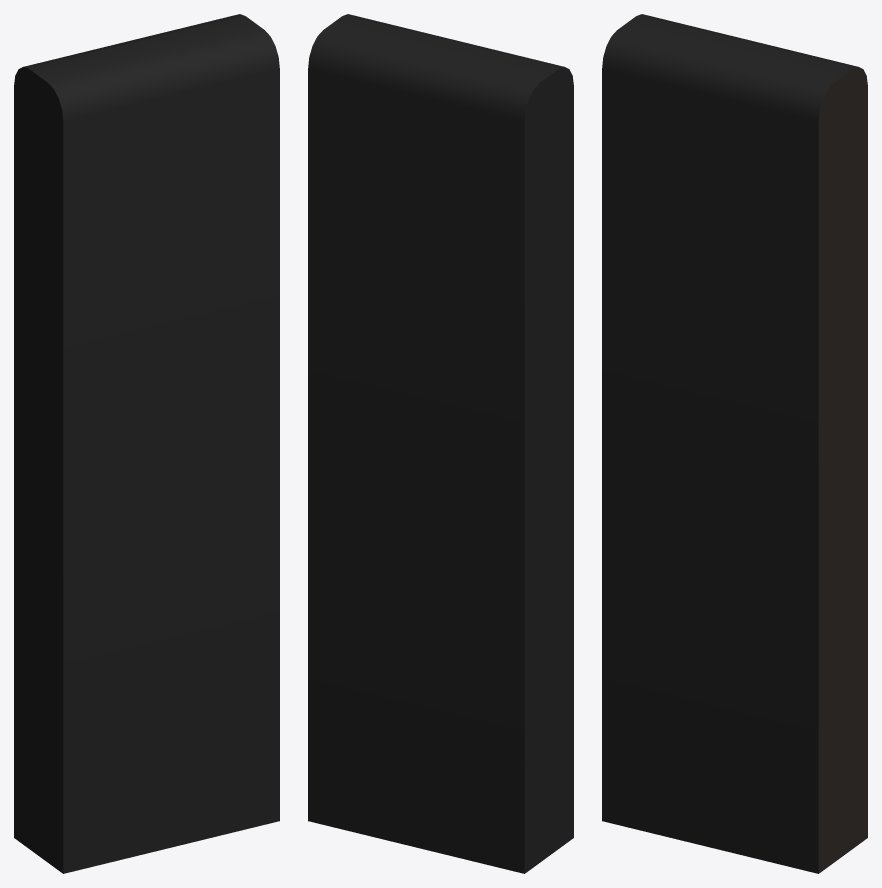
File: Wall03_GEO.fbx
The picture shows the model from 3 angles, left to right: view 1: azimuth 30°, elevation 25°; view 2: azimuth 150°, elevation 25°; view 3: azimuth 330°, elevation 25°; orthographic projection.
Parts seen in each view (by area): view 1: Wall03_GEO; view 2: Wall03_GEO; view 3: Wall03_GEO.
Boxes of the visible parts, bbox=[...] form: Wall03_GEO: bbox=[14, 14, 279, 873]; Wall03_GEO: bbox=[308, 14, 573, 873]; Wall03_GEO: bbox=[602, 14, 867, 873].
Size of the model in its own units: 142 by 488 by 55.76.
1 material, 1 textured.
